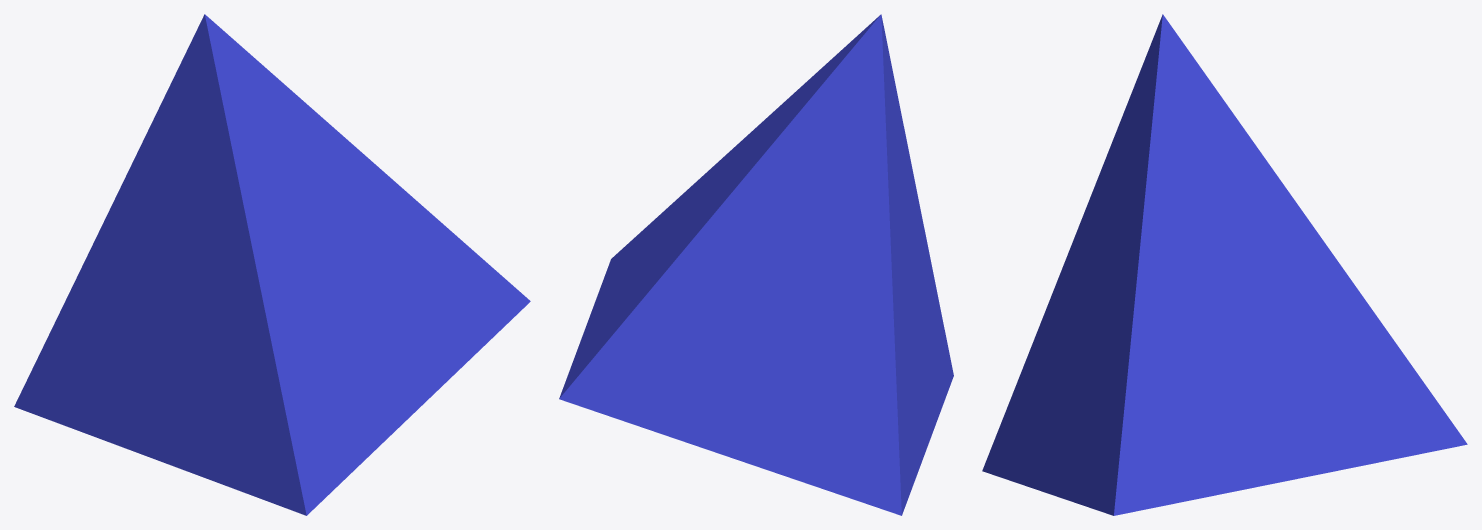
3 renders of one model, left to right at view 1: azimuth 30°, elevation 25°; view 2: azimuth 150°, elevation 25°; view 3: azimuth 270°, elevation 25°, orthographic. The views are drawn at different scales.
Parts seen in each view (by area): view 1: node_id5; view 2: node_id5; view 3: node_id5.
Boxes of the visible parts, x1,y1,x2,y2 form: node_id5: [14, 14, 530, 515]; node_id5: [559, 14, 953, 515]; node_id5: [982, 14, 1467, 515].
Size of the model in its own units: 0.421 by 0.4343 by 0.4245.
